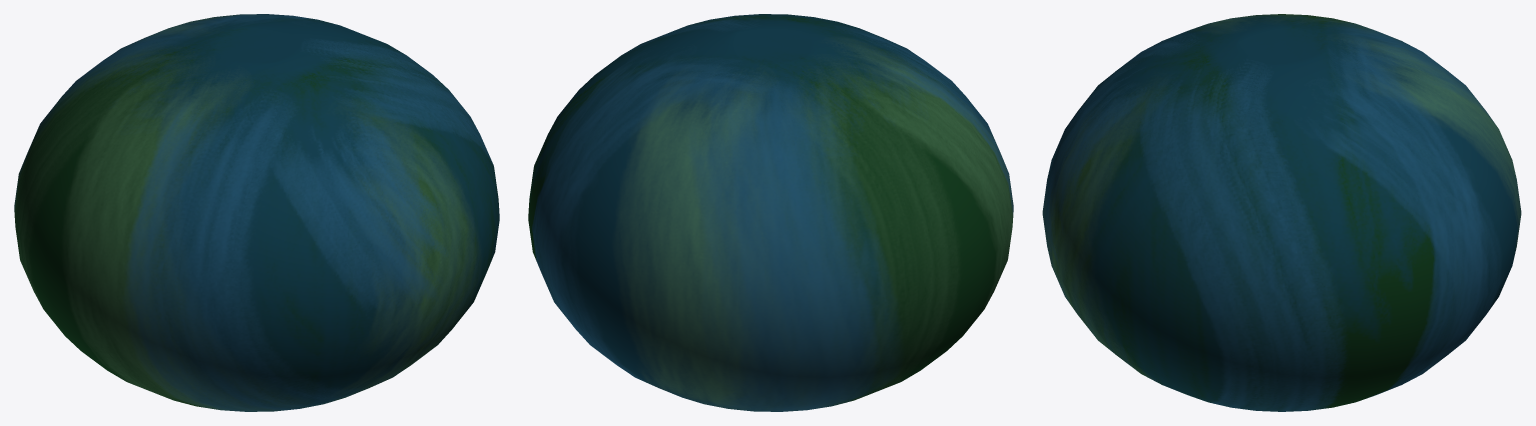
Rendered from Arbusto 2.fbx.
3 views of the same model, side by side, from view 1: azimuth 30°, elevation 25°; view 2: azimuth 150°, elevation 25°; view 3: azimuth 270°, elevation 25° (orthographic).
Parts seen in each view (by area): view 1: Sphere.003; view 2: Sphere.003; view 3: Sphere.003.
Part boxes in pixels (box(x1,y1,x2,y2)): Sphere.003: box(14, 14, 499, 411); Sphere.003: box(528, 14, 1013, 411); Sphere.003: box(1042, 14, 1521, 411).
Size of the model in its own units: 782 by 599 by 769.
Materials: 1 (1 with a texture image).
